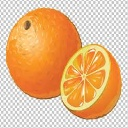orange: (6, 6, 83, 100), (59, 42, 123, 120)
